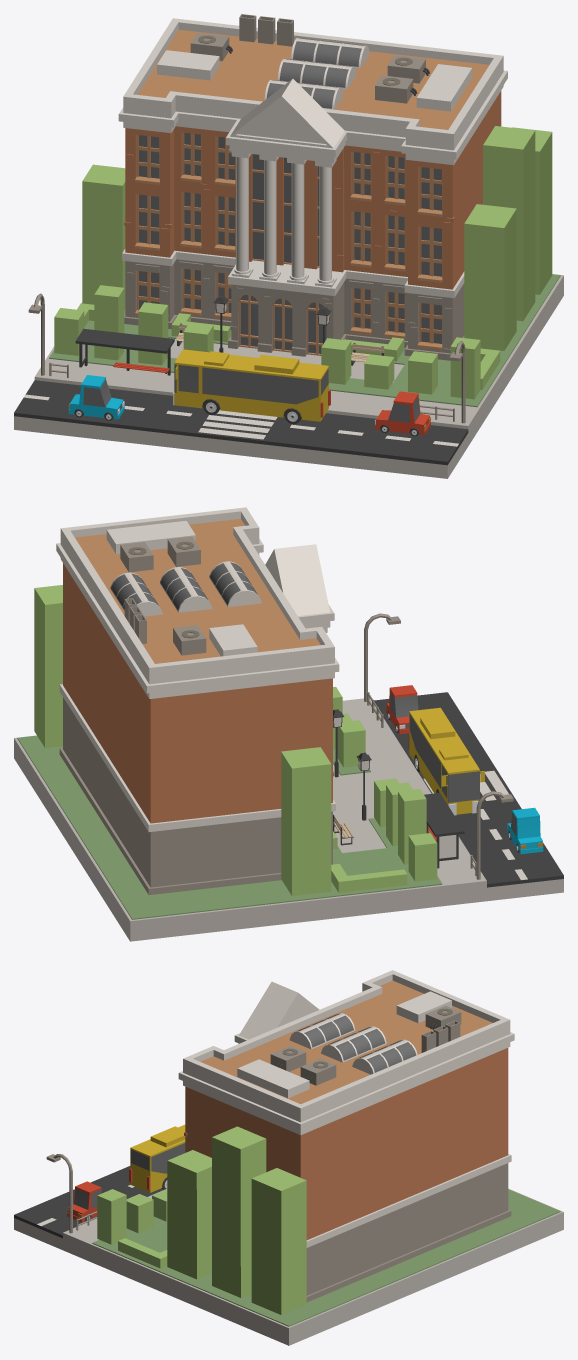
The model's file is school_01.glb.
The picture shows the model from 3 angles, top to bottom: view 1: azimuth 30°, elevation 25°; view 2: azimuth 150°, elevation 25°; view 3: azimuth 270°, elevation 25°; orthographic projection. The views are drawn at different scales.
Visible parts, largest first — view 1: school.001, bushes.001, ground.001, bus.001, bus stop.001, car blue.001, car red.001, street light.001, sidewalk lights.001; view 2: school.001, ground.001, bushes.001, bus.001, bus stop.001, car blue.001, car red.001, street light.001, sidewalk lights.001; view 3: school.001, bushes.001, ground.001, bus.001, car red.001.
Part boxes in pixels (box(x1,y1,x2,y2)): school.001: box(118, 14, 507, 360); bushes.001: box(54, 126, 552, 399); ground.001: box(14, 274, 563, 478); bus.001: box(173, 349, 330, 424); bus stop.001: box(75, 328, 174, 375); car blue.001: box(68, 366, 177, 420); car red.001: box(375, 391, 430, 436); street light.001: box(28, 293, 465, 423); sidewalk lights.001: box(213, 295, 331, 352); school.001: box(56, 507, 339, 894); ground.001: box(14, 692, 563, 941); bushes.001: box(34, 585, 437, 895); bus.001: box(408, 707, 479, 815); bus stop.001: box(424, 793, 464, 868); car blue.001: box(441, 771, 543, 854); car red.001: box(386, 685, 418, 734); street light.001: box(364, 613, 513, 879); sidewalk lights.001: box(333, 709, 371, 820); school.001: box(178, 970, 514, 1302); bushes.001: box(97, 1126, 306, 1314); ground.001: box(14, 1166, 563, 1345); bus.001: box(129, 1124, 185, 1192); car red.001: box(67, 1181, 102, 1222).
Bounding box in the file's own units: 1.41 × 0.6835 × 1.41.
